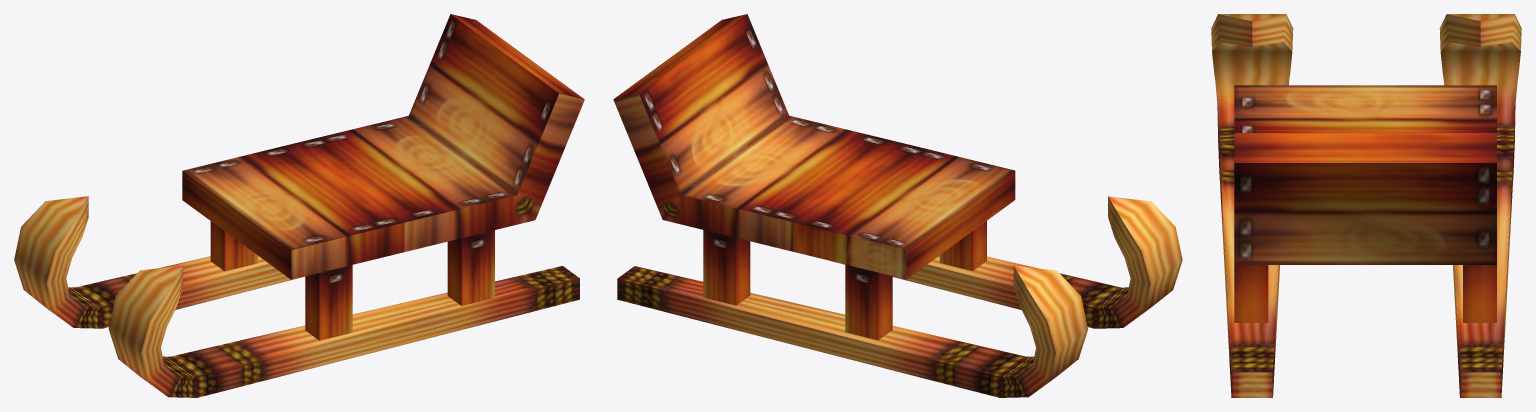
File: Object_Sled.FBX
The picture shows the model from 3 angles, left to right: view 1: azimuth 30°, elevation 25°; view 2: azimuth 150°, elevation 25°; view 3: azimuth 270°, elevation 25°; orthographic projection. The views are drawn at different scales.
Visible parts, largest first — view 1: sled; view 2: sled; view 3: sled.
Boxes of the visible parts, bbox=[...] form: sled: bbox=[14, 14, 584, 397]; sled: bbox=[613, 14, 1182, 397]; sled: bbox=[1211, 14, 1521, 397].
Size of the model in its own units: 86 by 38.11 by 42.31.
